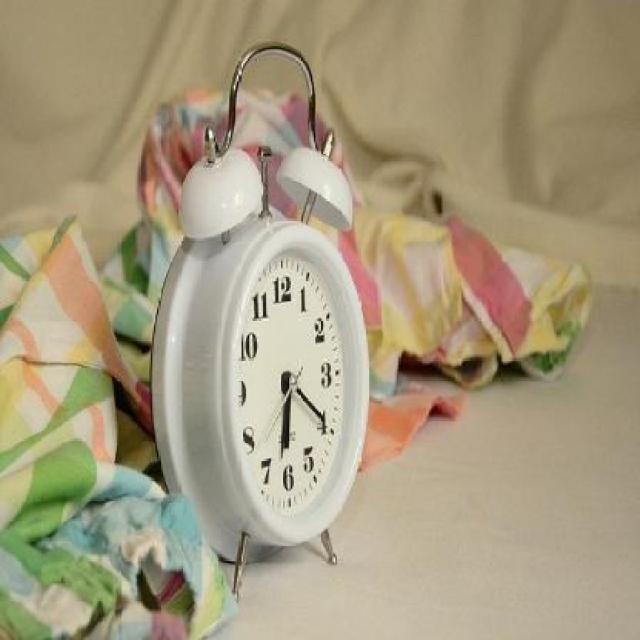clock: (231, 251, 356, 530)
